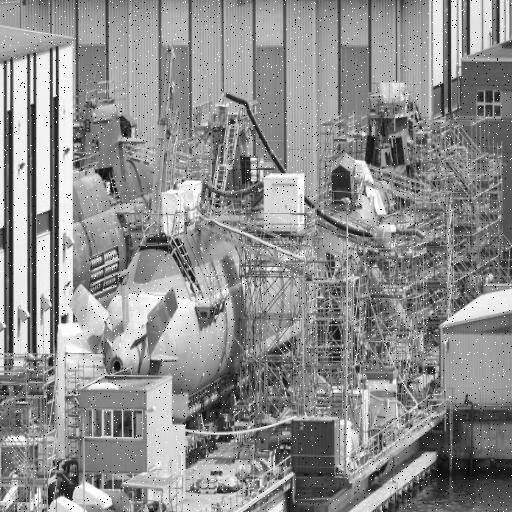submarine: (107, 156, 411, 376)
